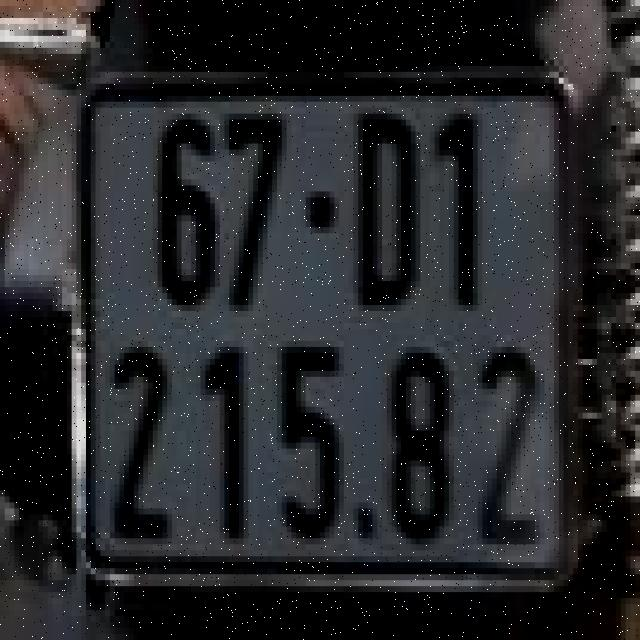1: (186, 329, 268, 562), (435, 81, 492, 314)
2: (476, 329, 556, 568), (100, 320, 182, 547)
5: (272, 326, 354, 565)
6: (148, 93, 220, 320)
7: (224, 105, 286, 320)
8: (373, 323, 468, 544)
D: (337, 84, 437, 317)
